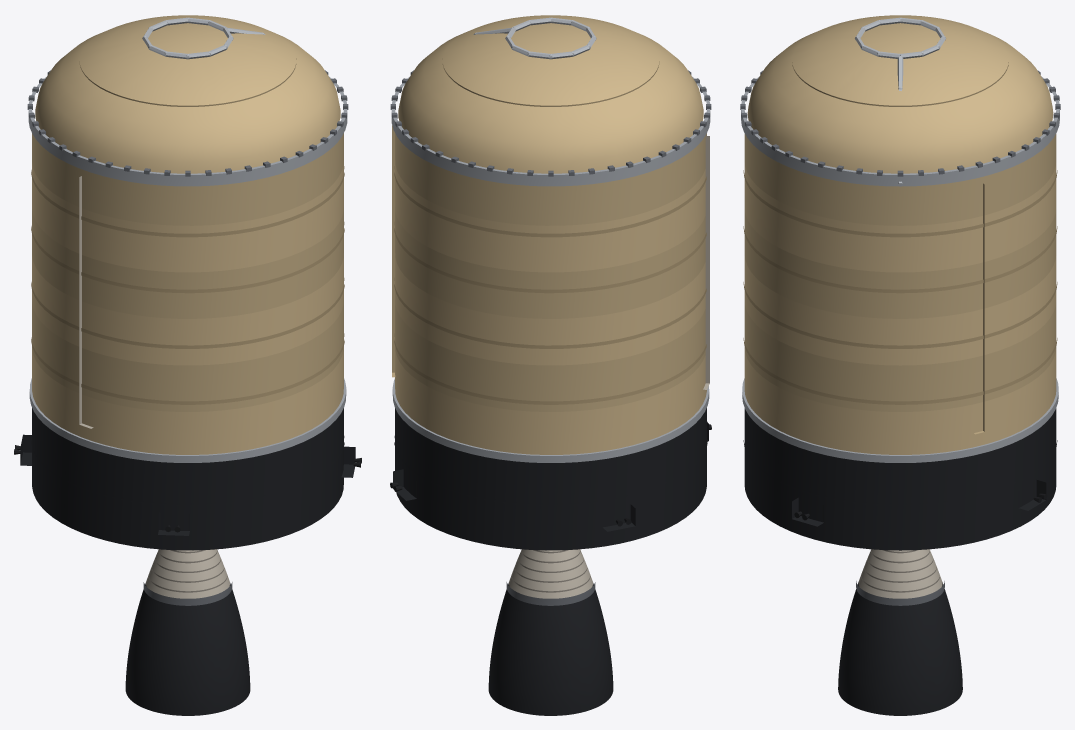
The model's file is h2a-stage2.glb.
3 views of the same model, side by side, from view 1: azimuth 30°, elevation 25°; view 2: azimuth 150°, elevation 25°; view 3: azimuth 270°, elevation 25° (orthographic).
Visible parts, largest first — view 1: body; view 2: body; view 3: body.
Boxes of the visible parts, bbox=[...] form: body: bbox=[14, 15, 361, 715]; body: bbox=[390, 15, 711, 715]; body: bbox=[740, 15, 1060, 715].
Bounding box in the file's own units: 4.11 × 9.25 × 4.11.
